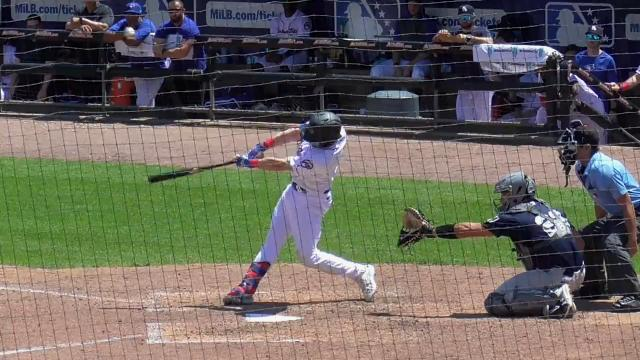baseball bat: (147, 159, 235, 183)
sports ball: (124, 26, 136, 38)
